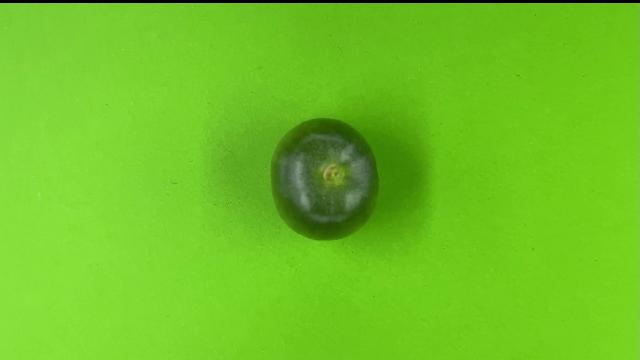Fruit Maturation: (268, 118, 380, 241)
